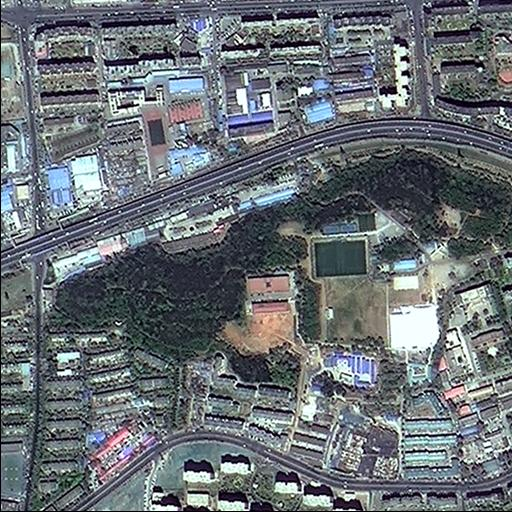school: (108, 71, 214, 155)
